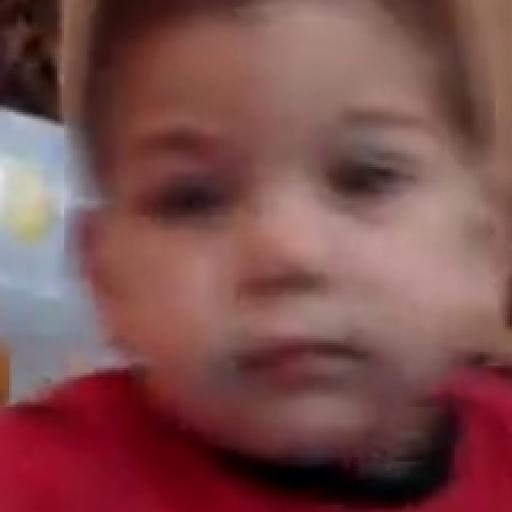Autism: (73, 40, 475, 482)
